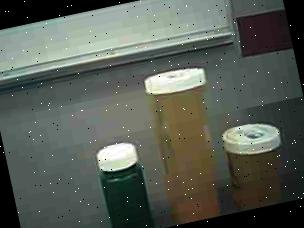Bottle A: (130, 58, 234, 228)
Bottle B: (219, 116, 295, 212)
Bottle C: (89, 137, 157, 228)
